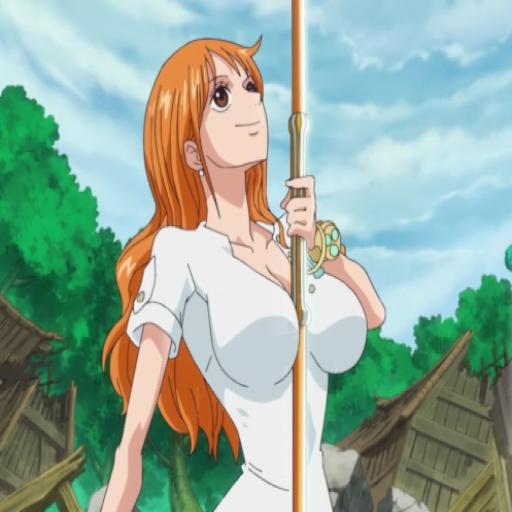Nami: (66, 1, 396, 512)
